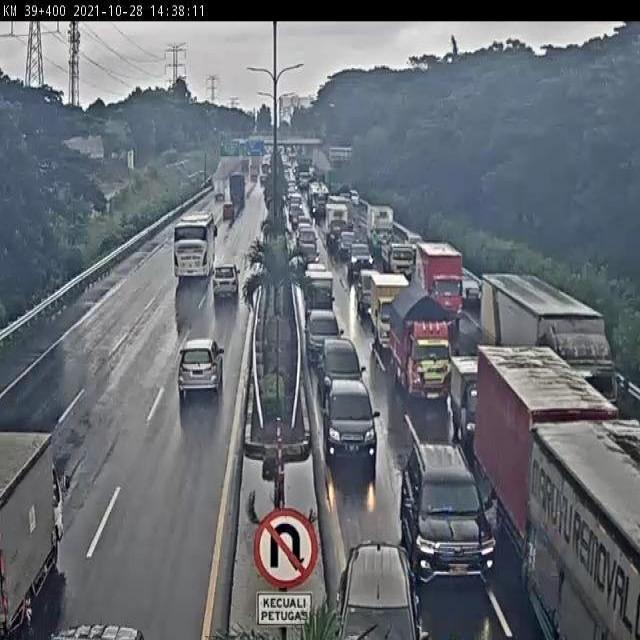big bus: (165, 208, 214, 299), (200, 255, 238, 321)
big truck: (478, 346, 612, 566), (530, 414, 640, 640), (484, 273, 608, 415), (0, 421, 76, 640), (389, 280, 459, 396), (369, 275, 419, 357)
car: (402, 437, 490, 587), (339, 526, 413, 638), (158, 339, 227, 432), (327, 371, 384, 466), (450, 352, 505, 441), (317, 339, 368, 412), (309, 306, 347, 371), (303, 267, 341, 309)
